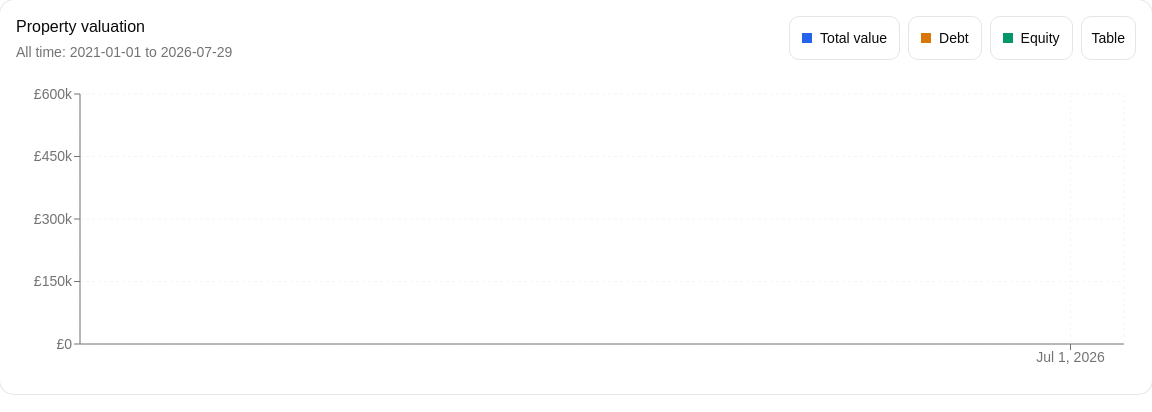
Test: ValuationChart › shows synthetic valuation point statuses in the exact-values table
The width and height of the screenshot is (1152, 412).
Expected: the text "All time: 2021-01-01 to 2026-07-29" is shown, [16,42,232,62]
Click the button "Table": (1108, 38) [1080,16,1136,60]
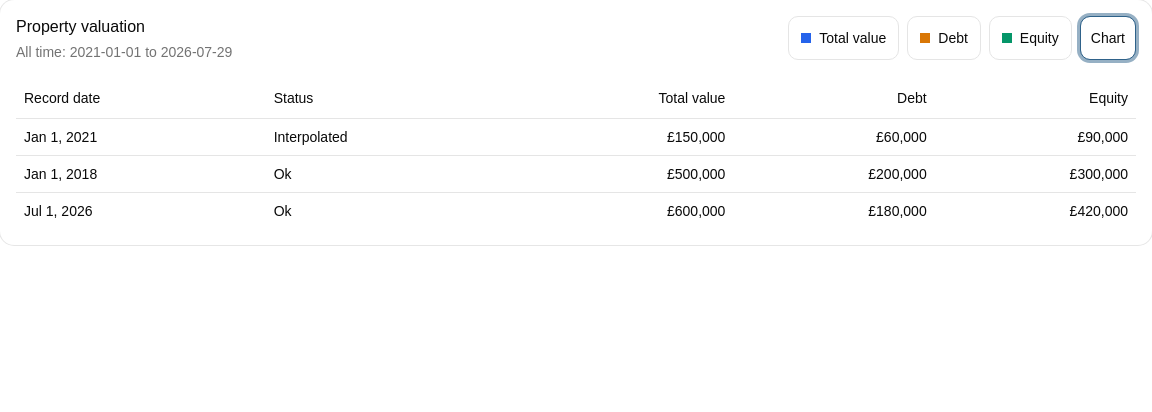
Expected: the table named "property valuation exact values" shows "Interpolated", [274,128,348,144]
